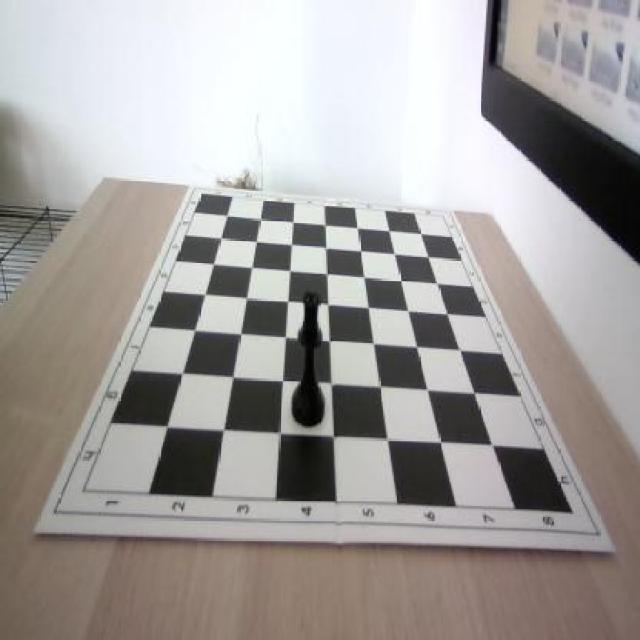black-pawn: (289, 289, 328, 429)
